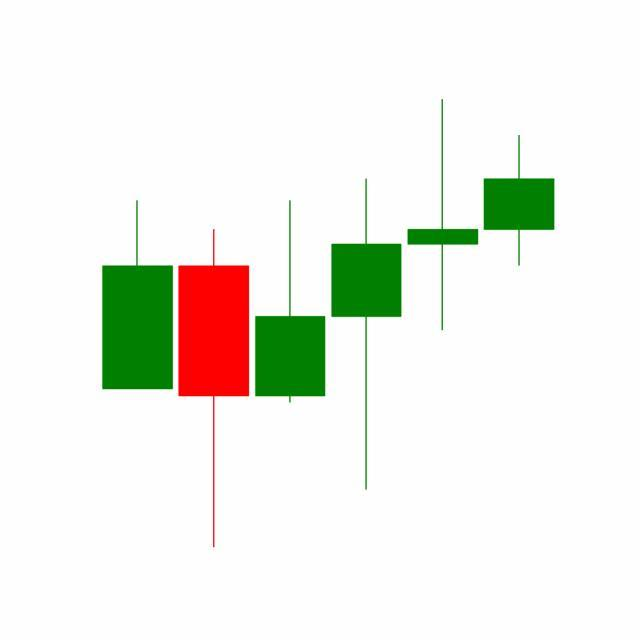Spinning Top: (404, 96, 482, 334)
